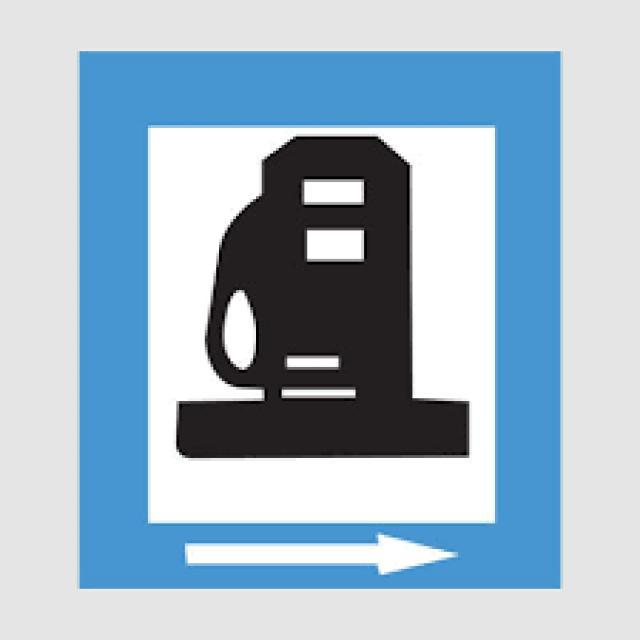petrol pump ahead: (81, 53, 564, 592)
